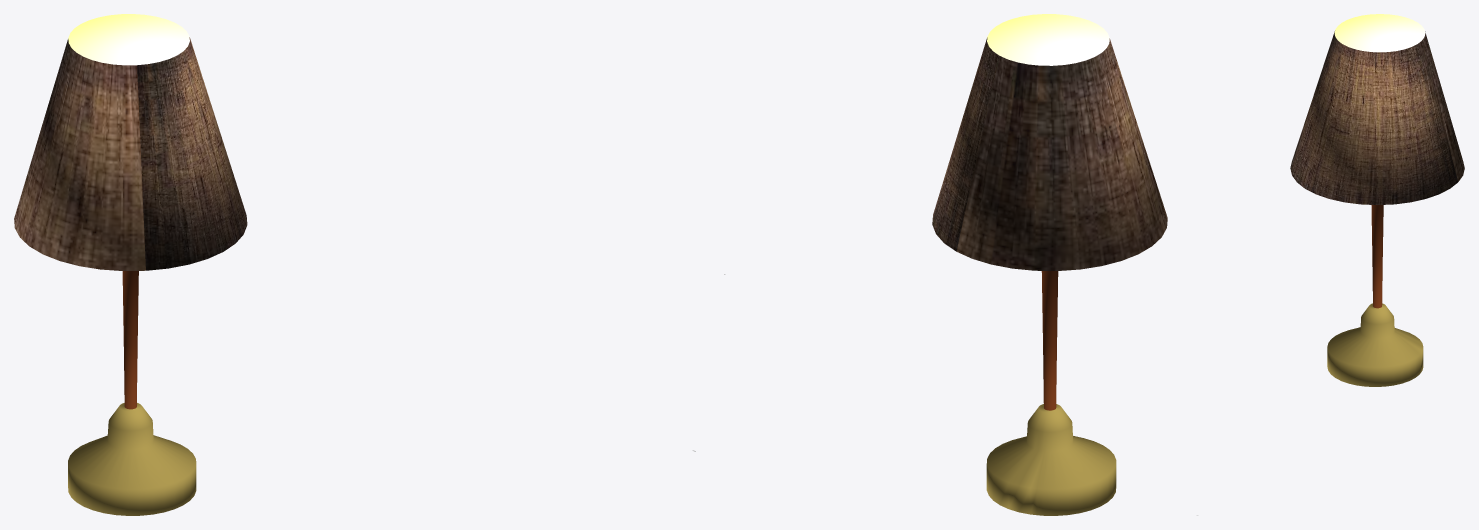
Rendered from lamp4.gltf.
The picture shows the model from 3 angles, left to right: view 1: azimuth 30°, elevation 25°; view 2: azimuth 150°, elevation 25°; view 3: azimuth 270°, elevation 25°; orthographic projection. The views are drawn at different scales.
Visible parts, largest first — view 1: Cylinder; view 2: Cylinder; view 3: Cylinder.
Boxes of the visible parts, x1,y1,x2,y2 form: Cylinder: (14,14,247,515); Cylinder: (932,14,1167,515); Cylinder: (1290,14,1464,386).
Size of the model in its own units: 0.7361 by 0.5766 by 0.421.
Materials: 5 (1 with a texture image).
